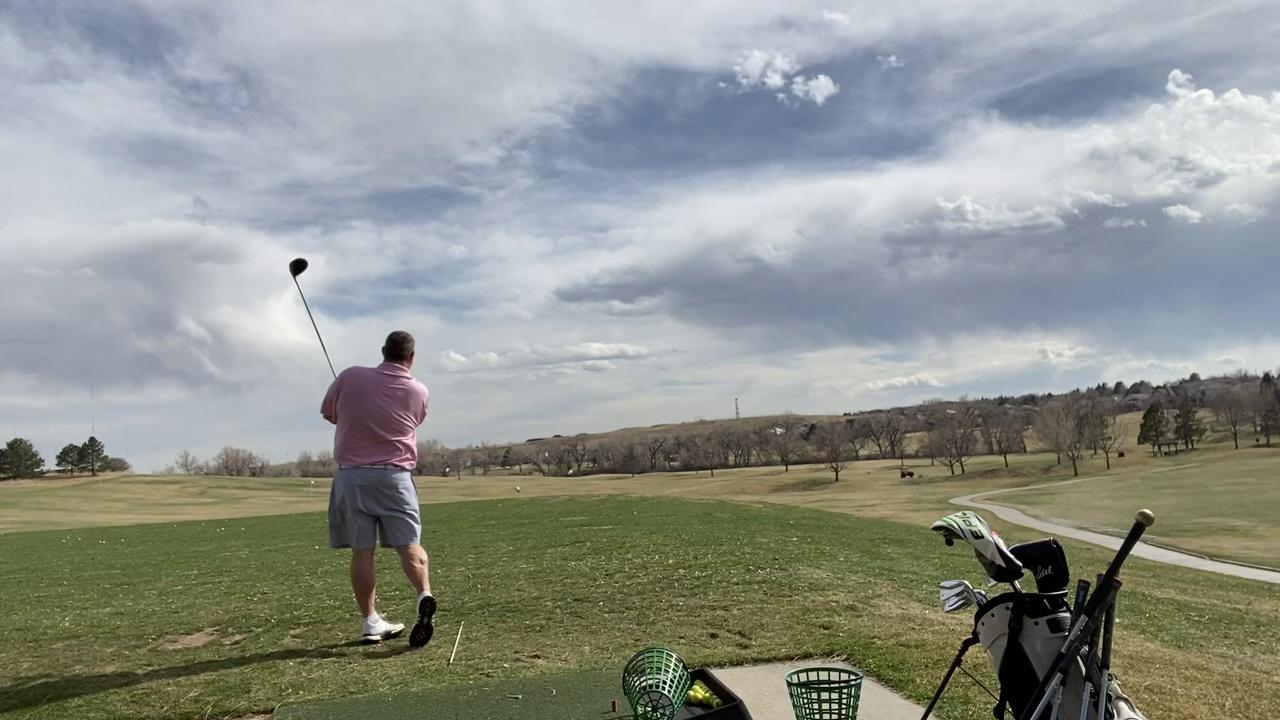ClubHead: (280, 253, 313, 289)
